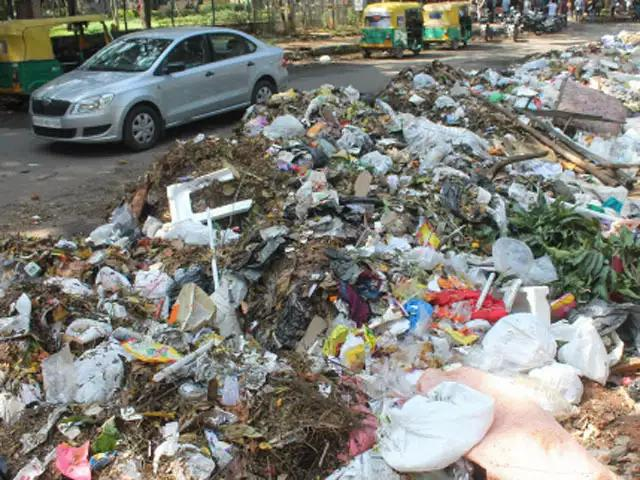garbage: (0, 78, 640, 480)
